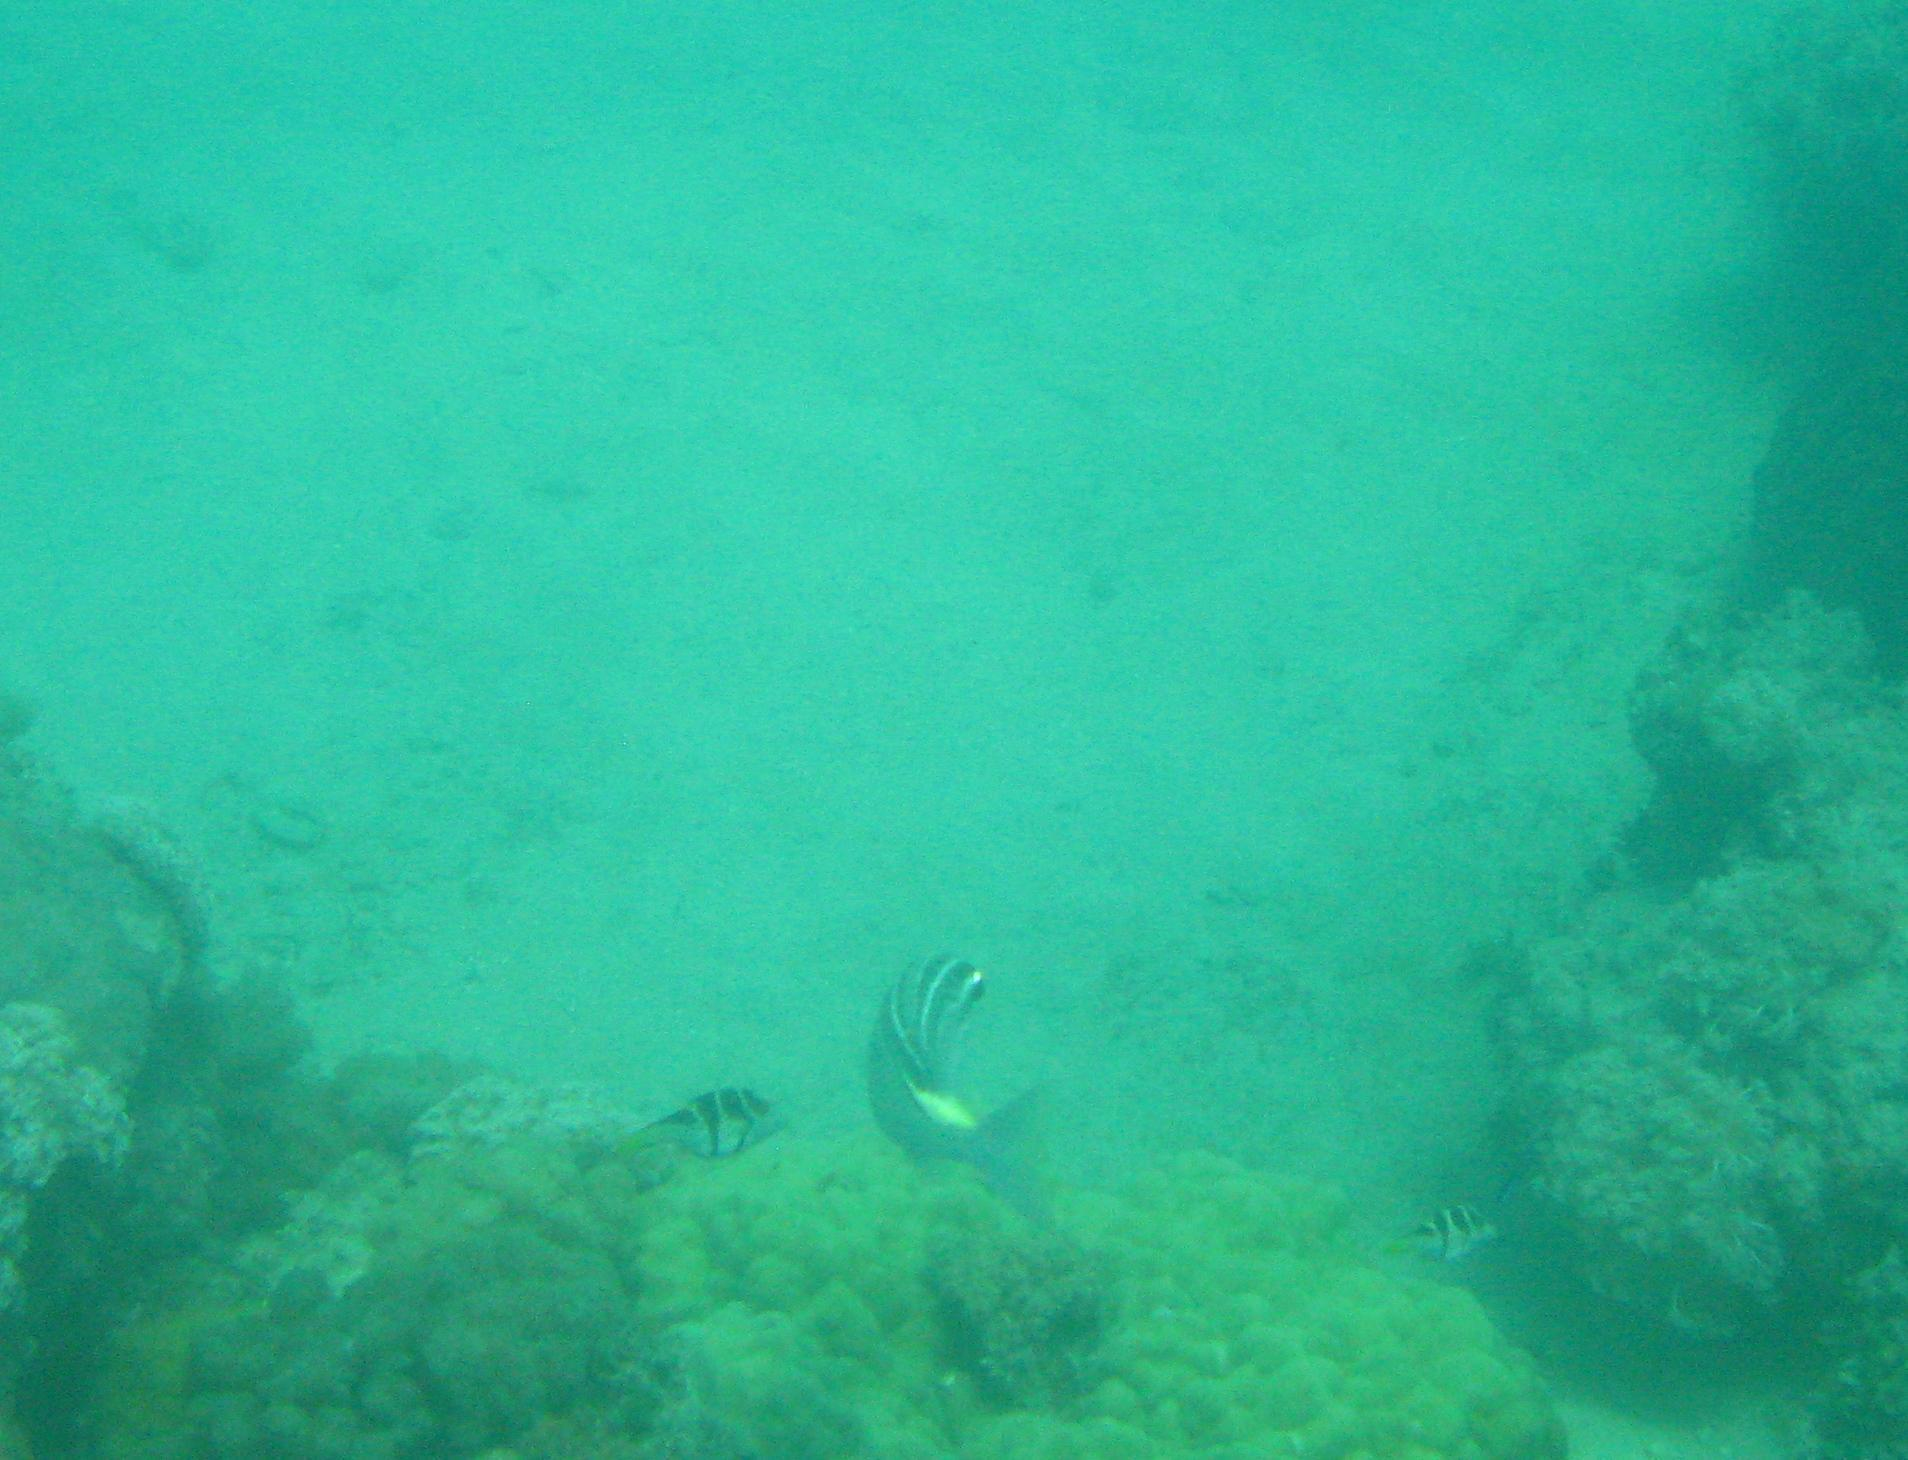Fish: (837, 917, 1143, 1228), (578, 1054, 828, 1208)
